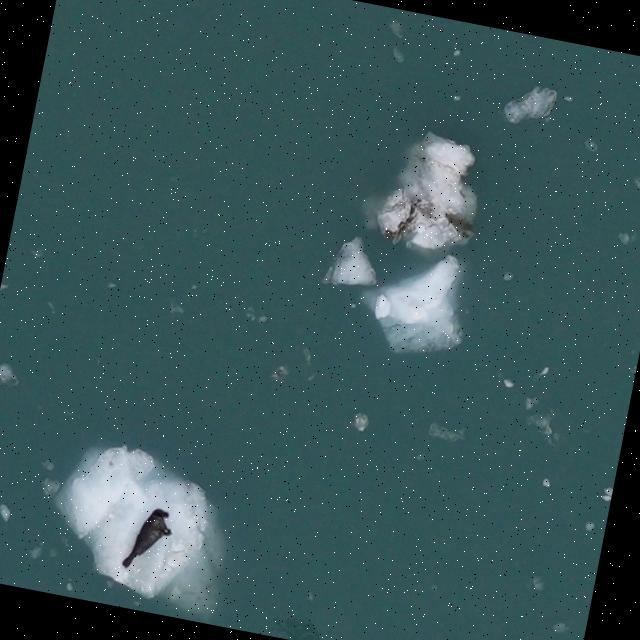seal: (119, 498, 178, 578)
